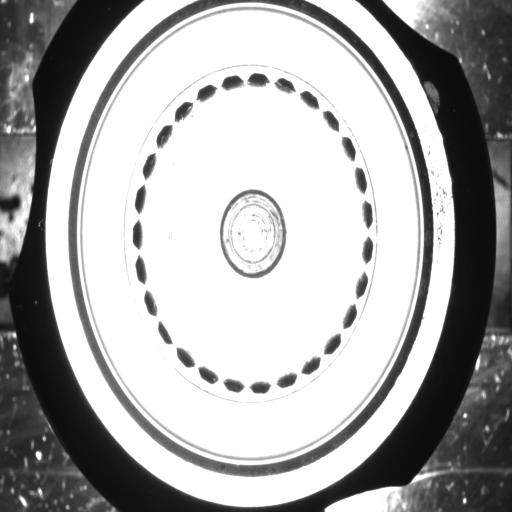gear: (130, 70, 378, 397)
